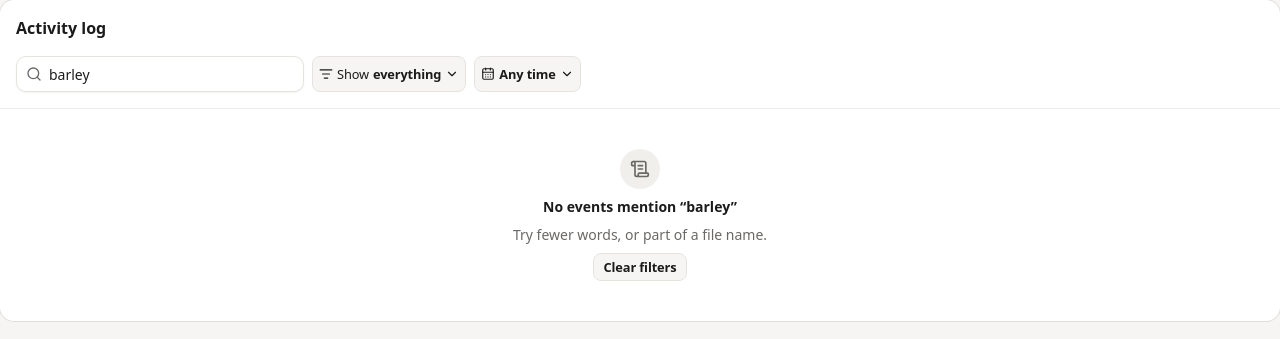
Test case: ActivityLog › says when nothing mentions the search, and clears it along with the filters
Expected: the text "No events mention “barley”" is shown, [543,197,737,217]
Expected: the search field named "Search the activity log" holds "barley", [16,56,304,92]
Click the button "Clear filters": (640, 267) [593,253,688,281]
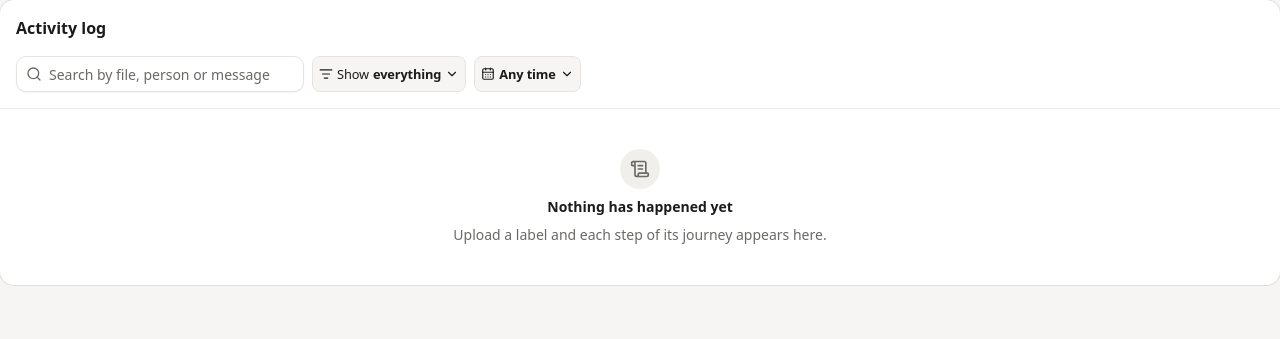
Now the search field named "Search the activity log" is empty, box [16,56,304,92]
